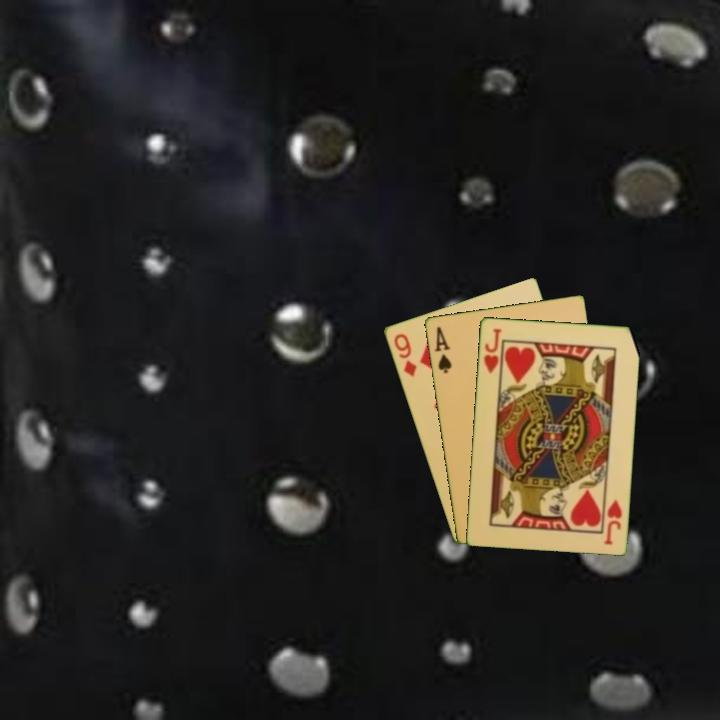9d: (390, 330, 419, 379)
As: (431, 323, 454, 376)
Jh: (480, 324, 505, 380), (601, 496, 624, 547)
